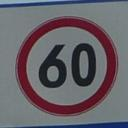speed_limit_60: (16, 16, 119, 116)
